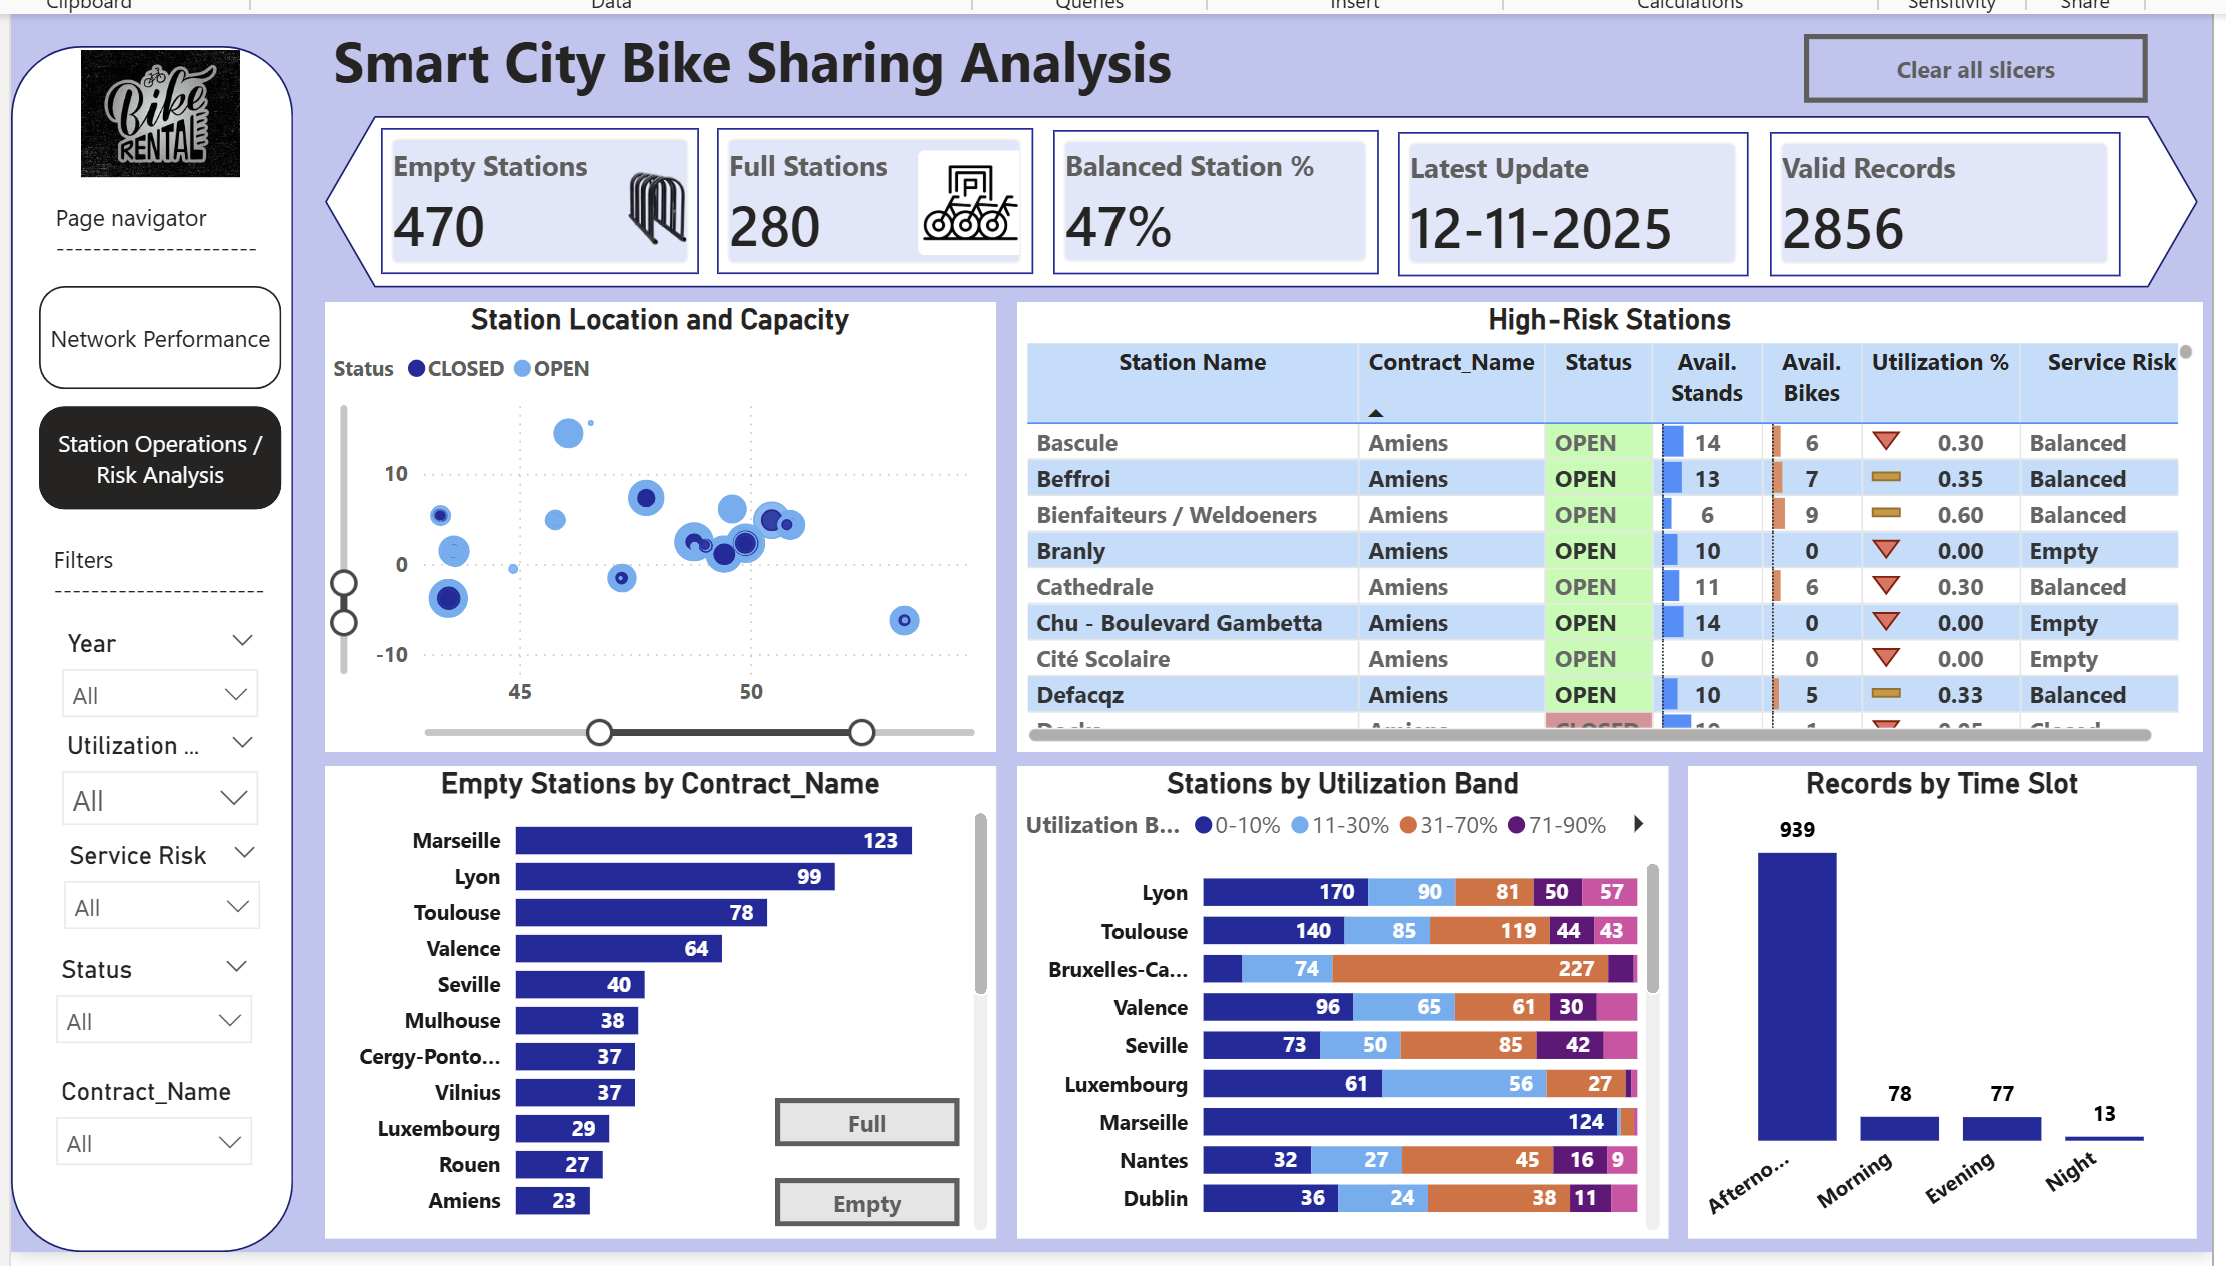

What the dashboard file says about the page in this screenshot:
{"tool":"powerbi","page":{"name":"Station Operations / Risk Analysis","canvas":[1280,720],"ordinal":1},"visuals":[{"type":"textbox","box":[182.9,0,506.5,74.6],"z":0},{"type":"shape","box":[0,18.2,164.2,701.8],"z":1000},{"type":"image","box":[40.8,21.5,92.3,74],"z":2000},{"type":"pageNavigator","title":"Page Navigator","box":[16.2,158.8,141.2,131.2],"z":3000},{"type":"textbox","box":[20,302.5,142.5,50],"z":4000},{"type":"textbox","box":[20.5,103.5,142,46.9],"z":5000},{"type":"shape","box":[182.4,59,1089.1,99.8],"z":6000},{"type":"cardVisual","fields":{"Data":["DAX_Measures.Empty Stations"]},"box":[215,66.2,185,85],"z":7000},{"type":"cardVisual","fields":{"Data":["DAX_Measures.Full Stations"]},"box":[411.2,66.2,183.8,85],"z":8000},{"type":"cardVisual","fields":{"Data":["DAX_Measures.Latest Update"]},"box":[806.2,68.8,203.8,83.8],"z":9000},{"type":"cardVisual","fields":{"Data":["DAX_Measures.Balanced Station %"]},"box":[606.2,67.5,188.8,83.8],"z":10000},{"type":"slicer","fields":{"Values":["DateTable.Year"]},"box":[20,352.5,133.8,63.8],"z":11000},{"type":"slicer","fields":{"Values":["Fact_Bike_Sharing.Utilization Band"]},"box":[20,412.5,133.8,63.8],"z":12000},{"type":"slicer","fields":{"Values":["Fact_Bike_Sharing.Status"]},"box":[16.2,542.5,133.8,63.8],"z":13000},{"type":"slicer","fields":{"Values":["Fact_Bike_Sharing.Contract_Name"]},"box":[16.2,613.8,133.8,63.8],"z":14000},{"type":"scatterChart","title":"Station Location and Capacity","fields":{"X":["Dim_Bike_Station.Latitude"],"Y":["Dim_Bike_Station.Longitude"],"Size":["DAX_Measures.Total Capacity"],"Series":["Fact_Bike_Sharing.Status"]},"box":[182.5,167.5,390,261.2],"z":15000},{"type":"barChart","title":"Empty Stations by Contract_Name","fields":{"Category":["Dim_Contract.Contract_Name"],"Y":["DAX_Measures.Empty Stations"]},"box":[182.5,437.4,390.4,275.1],"z":16000},{"type":"hundredPercentStackedBarChart","title":"Stations by Utilization Band","fields":{"Category":["Dim_Contract.Contract_Name"],"Series":["Fact_Bike_Sharing.Utilization Band"],"Y":["Count(Fact_Bike_Sharing.Station_ID)"]},"box":[585,437.4,378.4,275.1],"z":18000},{"type":"columnChart","fields":{"Category":["Fact_Bike_Sharing.Time Slot"],"Y":["Count(Fact_Bike_Sharing.Station_ID)"]},"box":[975,167.5,296.2,261.2],"z":19000},{"type":"slicer","fields":{"Values":["Fact_Bike_Sharing.Service Risk"]},"box":[21.2,476.2,133.8,63.8],"z":20000},{"type":"tableEx","title":"High-Risk Stations","fields":{"Values":["Dim_Bike_Station.Station Name","Dim_Contract.Contract_Name","Fact_Bike_Sharing.Status","DAX_Measures.Available Stands","DAX_Measures.Available Bikes","Fact_Bike_Sharing.Utilization %","Fact_Bike_Sharing.Service Risk"]},"box":[585,167.5,688.8,261.2],"z":21000},{"type":"cardVisual","fields":{"Data":["DAX_Measures.Valid Records"]},"box":[1022.5,68.8,203.8,83.8],"z":22000},{"type":"actionButton","box":[1042.5,11.2,200,40],"z":23000},{"type":"actionButton","box":[444.1,630.6,107.3,28.2],"z":24000},{"type":"actionButton","box":[444.1,677.6,107.3,28.2],"z":25000},{"type":"columnChart","title":"Records by Time Slot","fields":{"Category":["Fact_Bike_Sharing.Time Slot"],"Y":["Count(Fact_Bike_Sharing.Station_ID)"]},"box":[975,437,296,275],"z":26000}]}

Visuals, with their boxes on the page's 1280x720 design canvas (x1, y1, x2, y2). These are canvas units, not pixel positions in the 2226x1266 screenshot, which may show the page scaled, cropped or inside an application window:
textbox: x1=183 y1=0 x2=689 y2=75
shape: x1=0 y1=18 x2=164 y2=720
image: x1=41 y1=22 x2=133 y2=96
"Page Navigator" pageNavigator: x1=16 y1=159 x2=157 y2=290
textbox: x1=20 y1=302 x2=162 y2=352
textbox: x1=20 y1=104 x2=162 y2=150
shape: x1=182 y1=59 x2=1272 y2=159
cardVisual - DAX_Measures.Empty Stations: x1=215 y1=66 x2=400 y2=151
cardVisual - DAX_Measures.Full Stations: x1=411 y1=66 x2=595 y2=151
cardVisual - DAX_Measures.Latest Update: x1=806 y1=69 x2=1010 y2=153
cardVisual - DAX_Measures.Balanced Station %: x1=606 y1=68 x2=795 y2=151
slicer - DateTable.Year: x1=20 y1=352 x2=154 y2=416
slicer - Fact_Bike_Sharing.Utilization Band: x1=20 y1=412 x2=154 y2=476
slicer - Fact_Bike_Sharing.Status: x1=16 y1=542 x2=150 y2=606
slicer - Fact_Bike_Sharing.Contract_Name: x1=16 y1=614 x2=150 y2=678
"Station Location and Capacity" scatterChart: x1=182 y1=168 x2=572 y2=429
"Empty Stations by Contract_Name" barChart: x1=182 y1=437 x2=573 y2=712
"Stations by Utilization Band" hundredPercentStackedBarChart: x1=585 y1=437 x2=963 y2=712
columnChart - Fact_Bike_Sharing.Time Slot x Count(Fact_Bike_Sharing.Station_ID): x1=975 y1=168 x2=1271 y2=429
slicer - Fact_Bike_Sharing.Service Risk: x1=21 y1=476 x2=155 y2=540
"High-Risk Stations" tableEx: x1=585 y1=168 x2=1274 y2=429
cardVisual - DAX_Measures.Valid Records: x1=1022 y1=69 x2=1226 y2=153
actionButton: x1=1042 y1=11 x2=1242 y2=51
actionButton: x1=444 y1=631 x2=551 y2=659
actionButton: x1=444 y1=678 x2=551 y2=706
"Records by Time Slot" columnChart: x1=975 y1=437 x2=1271 y2=712
